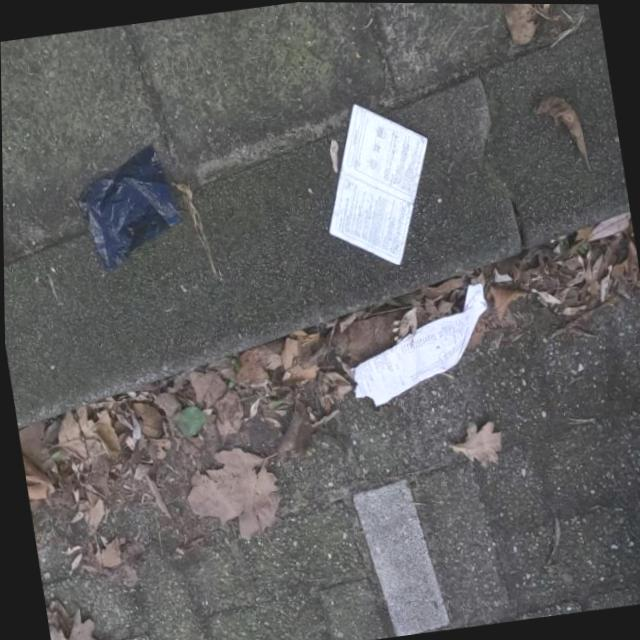Paper: (336, 279, 502, 413)
